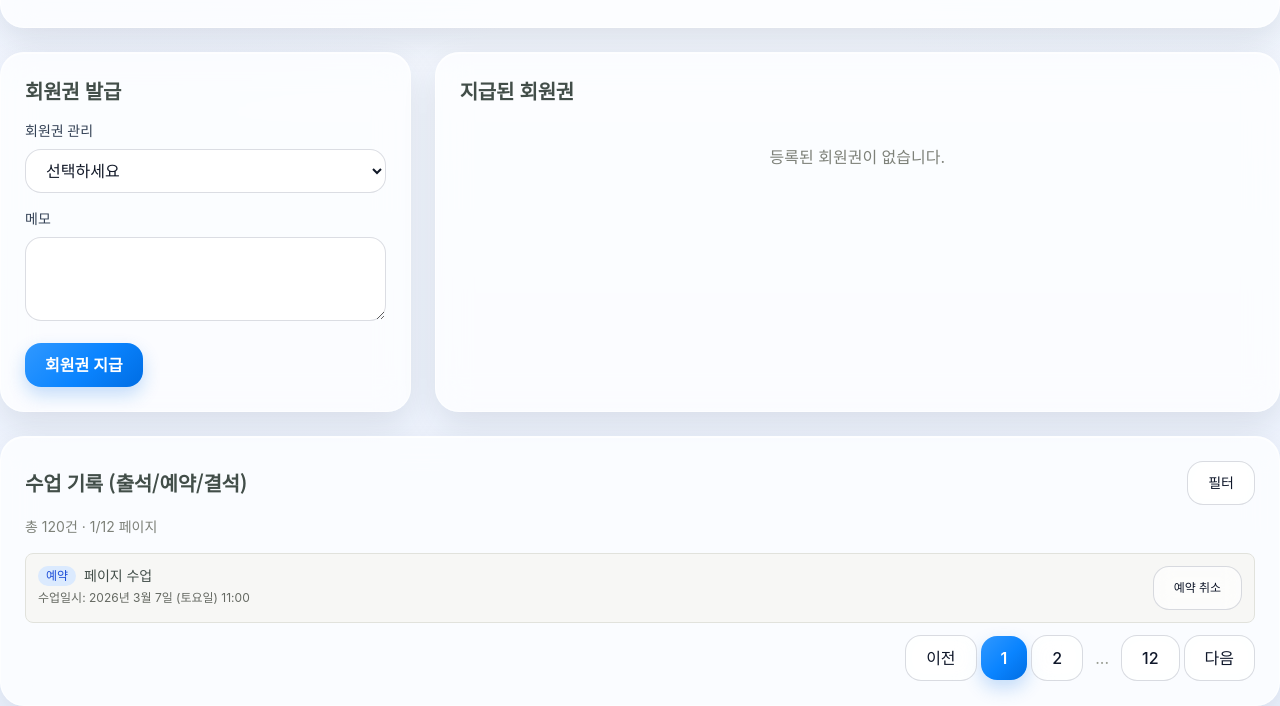
Test: CustomerDetail page › resets activity filter inputs and closes modal with cancel
(page scrolled)
Expected: the text "..." is shown, [1095,648,1109,668]
Click the button "필터" at (1221, 483), box [1187,461,1255,505]
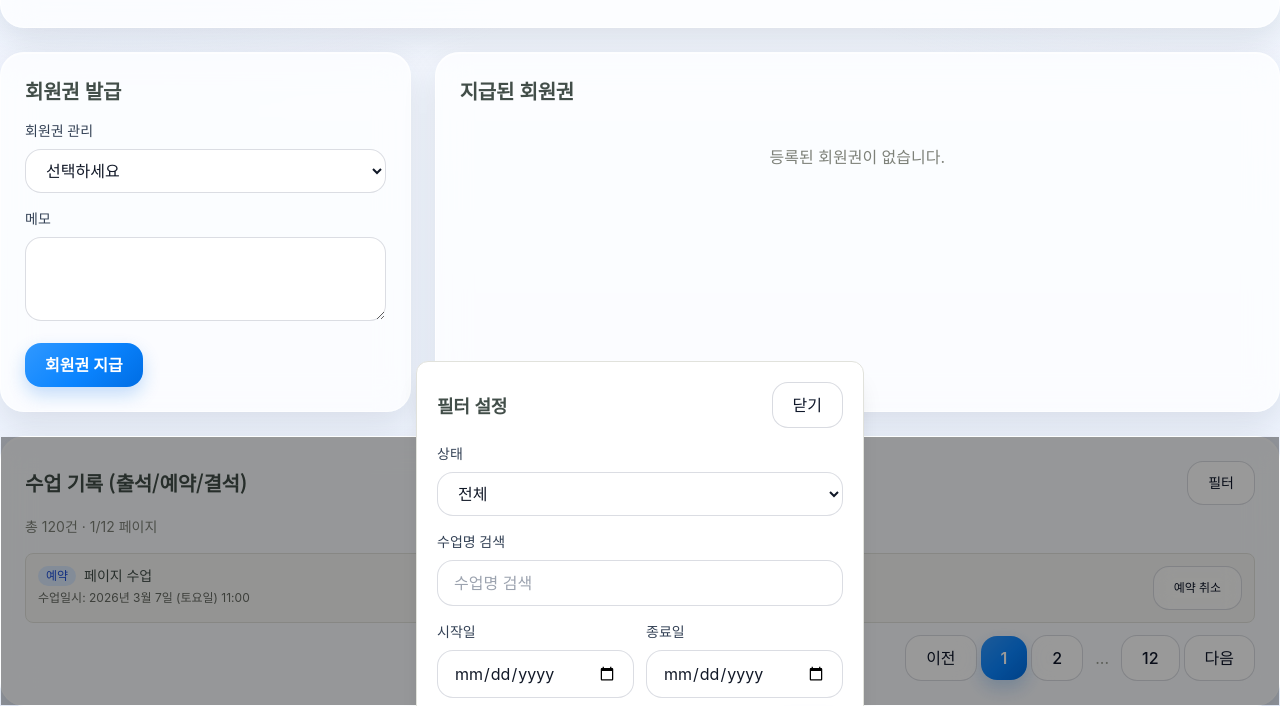
Select "예약" in the dropdown labelled "상태" at (640, 494), box [437,472,843,516]
Type "임시검색" into the field labelled "수업명 검색" at (640, 583), box [437,560,843,606]
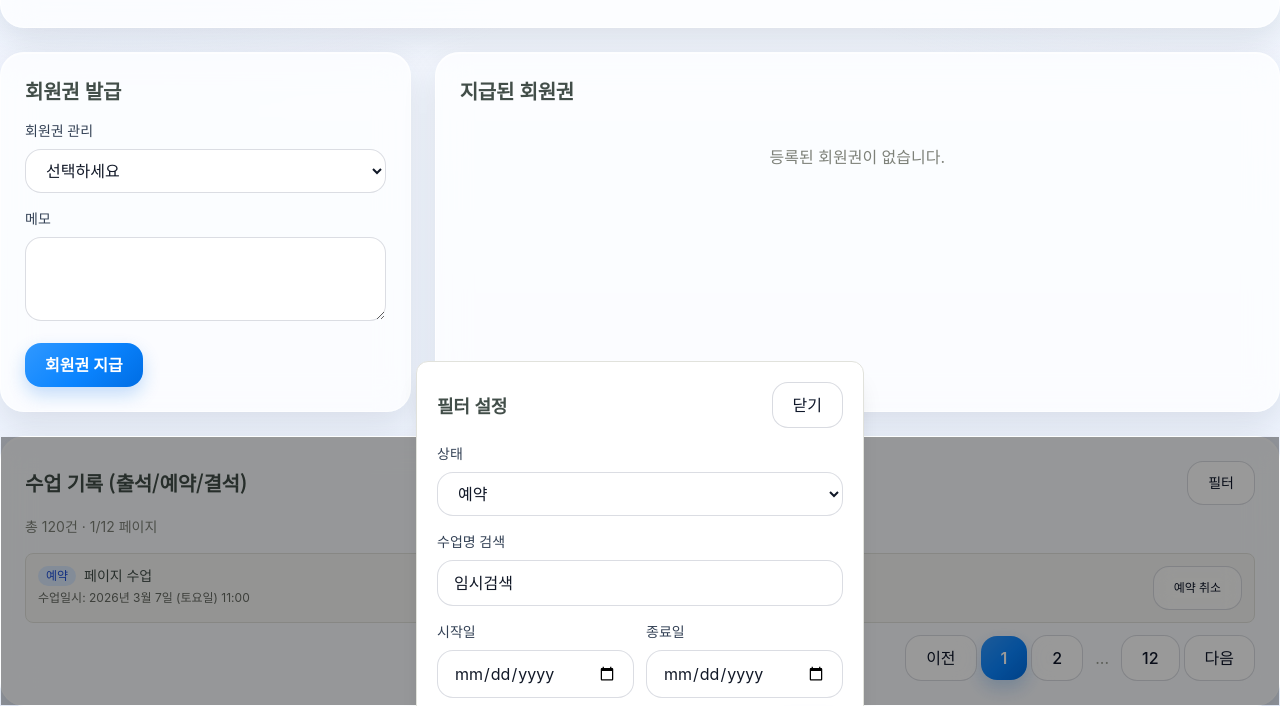
Type "2026-03-01" into the date field labelled "시작일" at (536, 674), box [437,650,634,698]
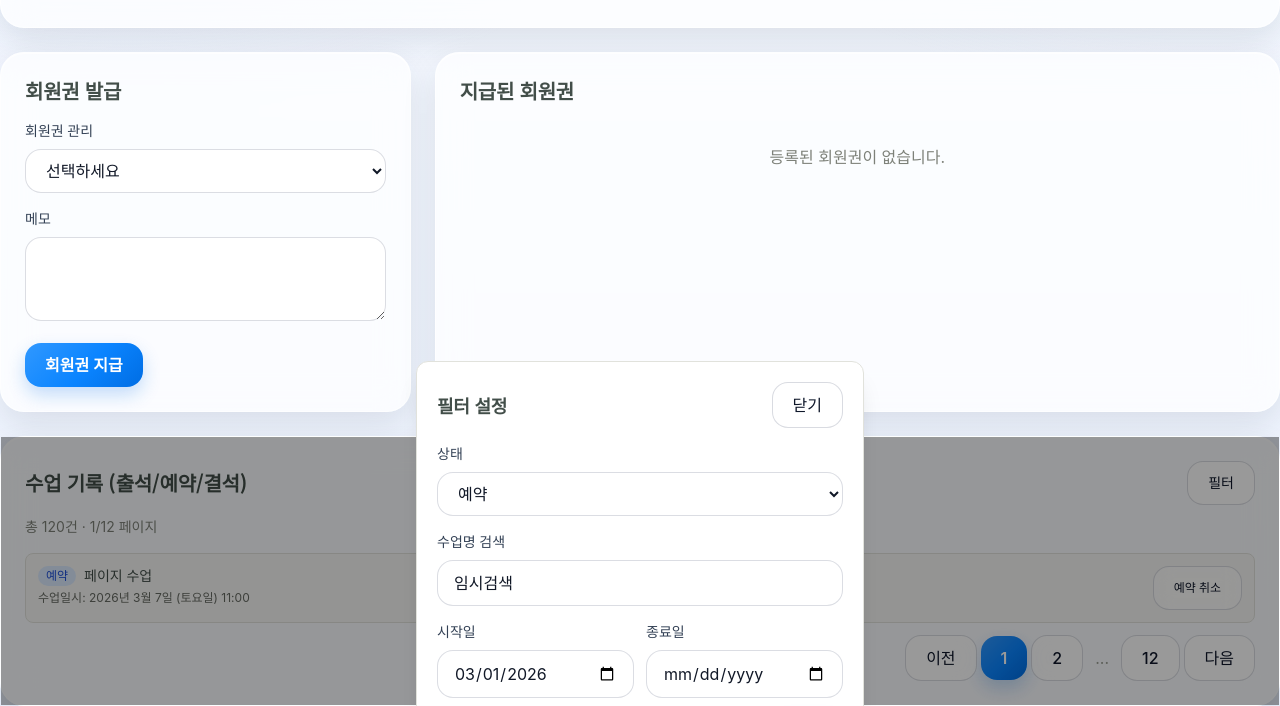
Type "2026-03-31" into the date field labelled "종료일" at (744, 674), box [646,650,843,698]
(page scrolled)
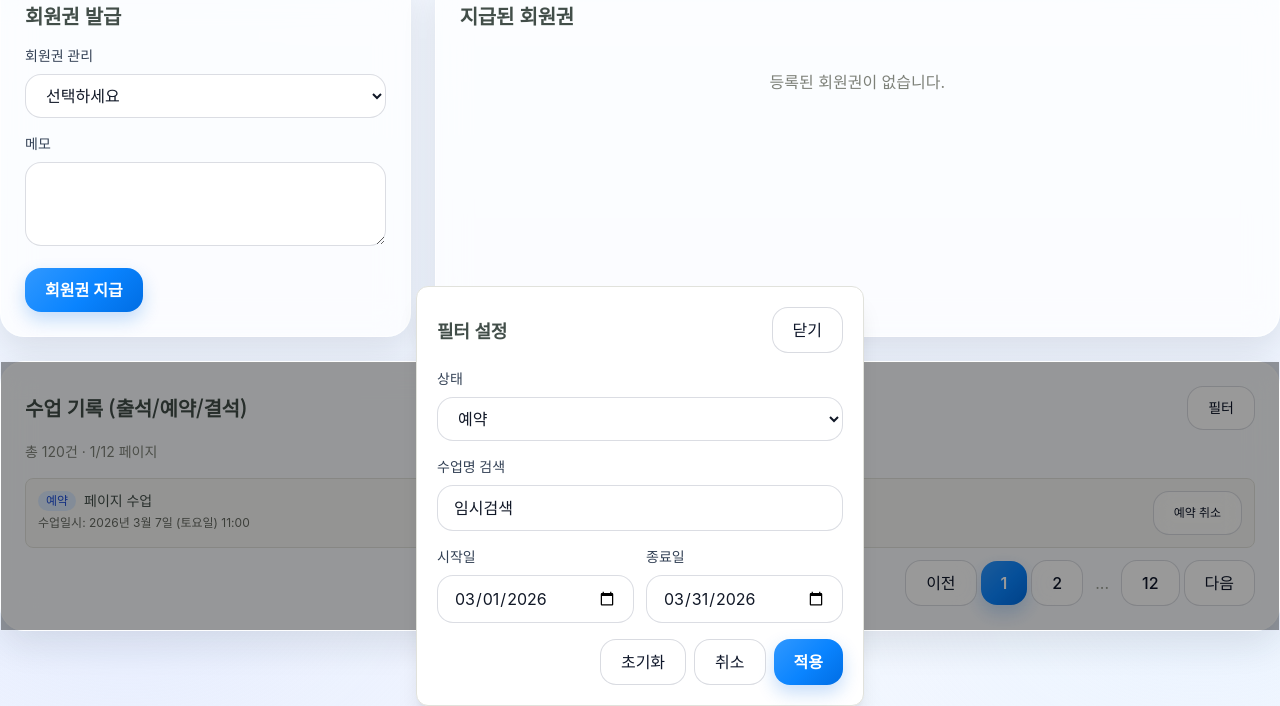
Click the button "초기화" at (643, 662), box [600,639,686,685]
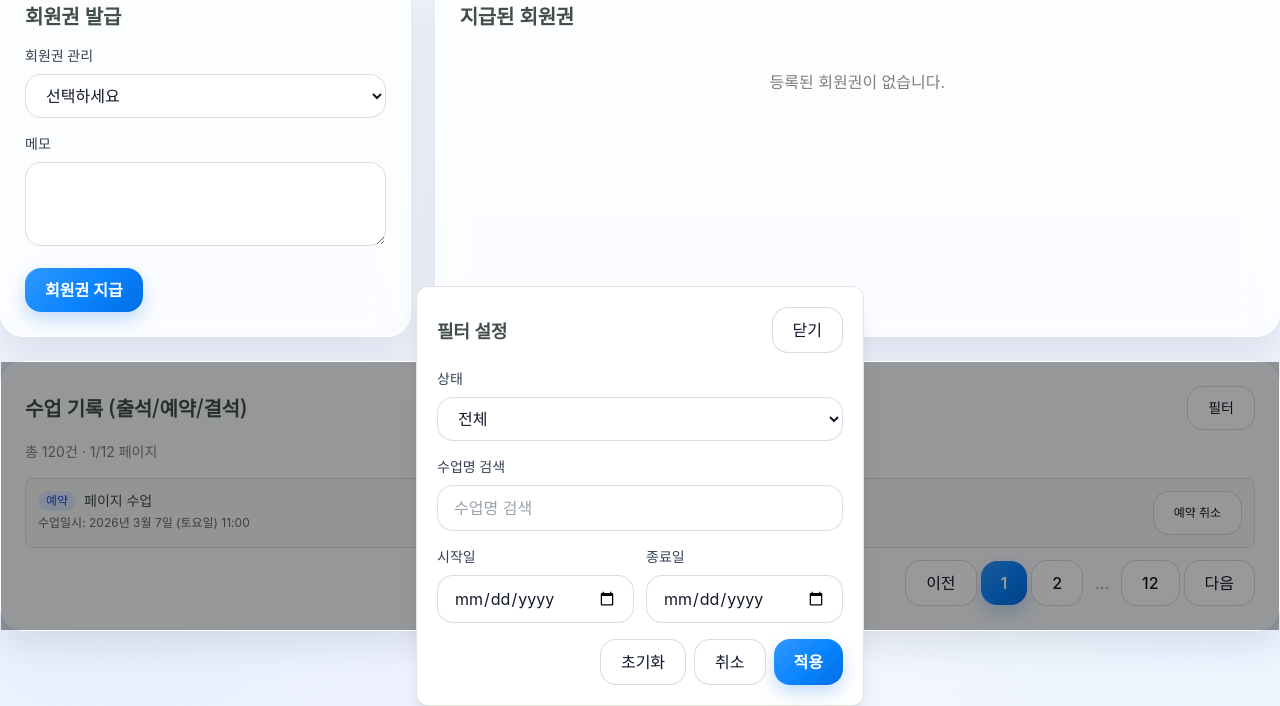
Now the field labelled "수업명 검색" is empty, box [437,485,843,531]
Now the date field labelled "시작일" is empty, box [437,575,634,623]
Now the date field labelled "종료일" is empty, box [646,575,843,623]
Click the button "취소" at (730, 662), box [694,639,766,685]
(page scrolled)
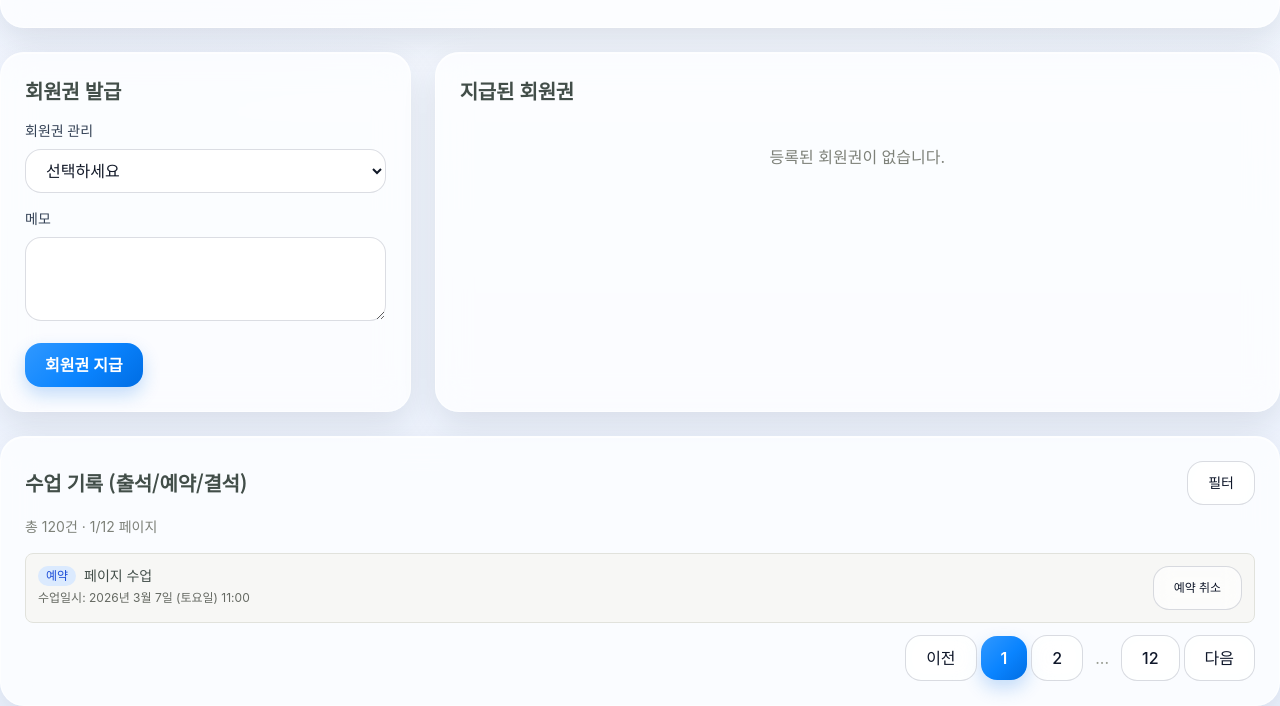
Now the heading "필터 설정" is gone
